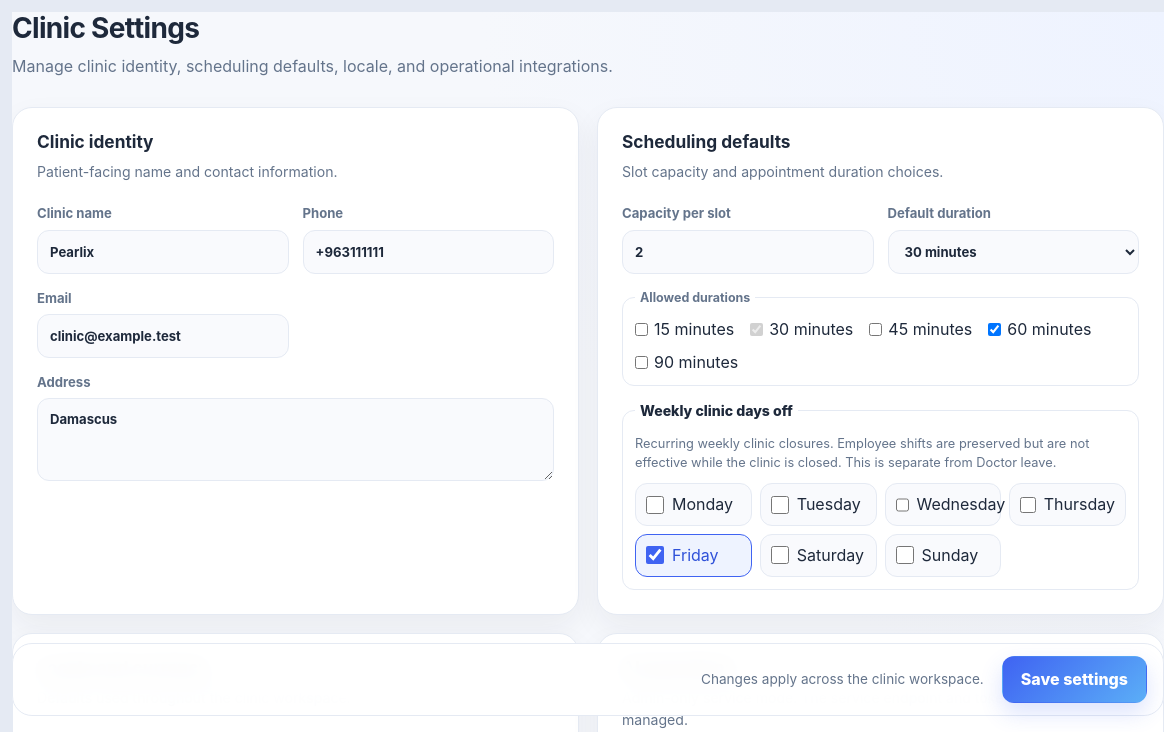
Test: Admin clinic operating week › blocks an all-seven selection locally with a visible validation error
Expected: the element "Weekly clinic days off" is shown, [622, 400, 1139, 590]
Click the checkbox labelled "Monday": (655, 505) [646, 496, 664, 514]
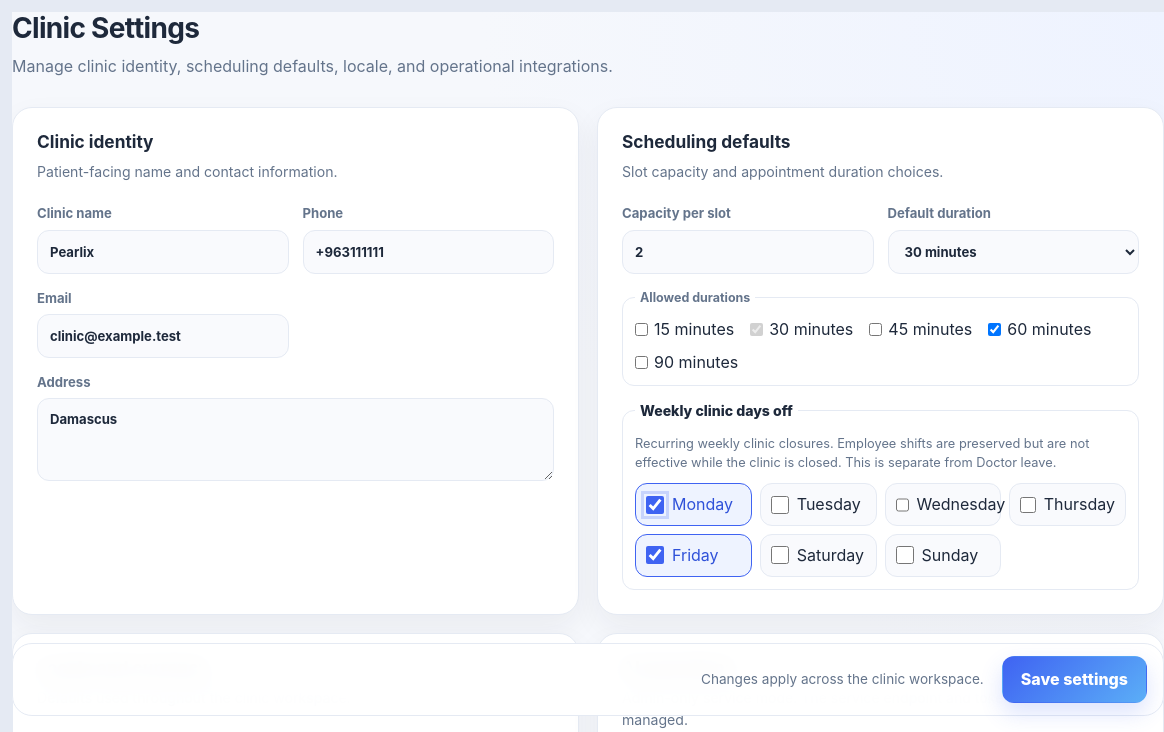
Click the checkbox labelled "Tuesday": (780, 505) [771, 496, 789, 514]
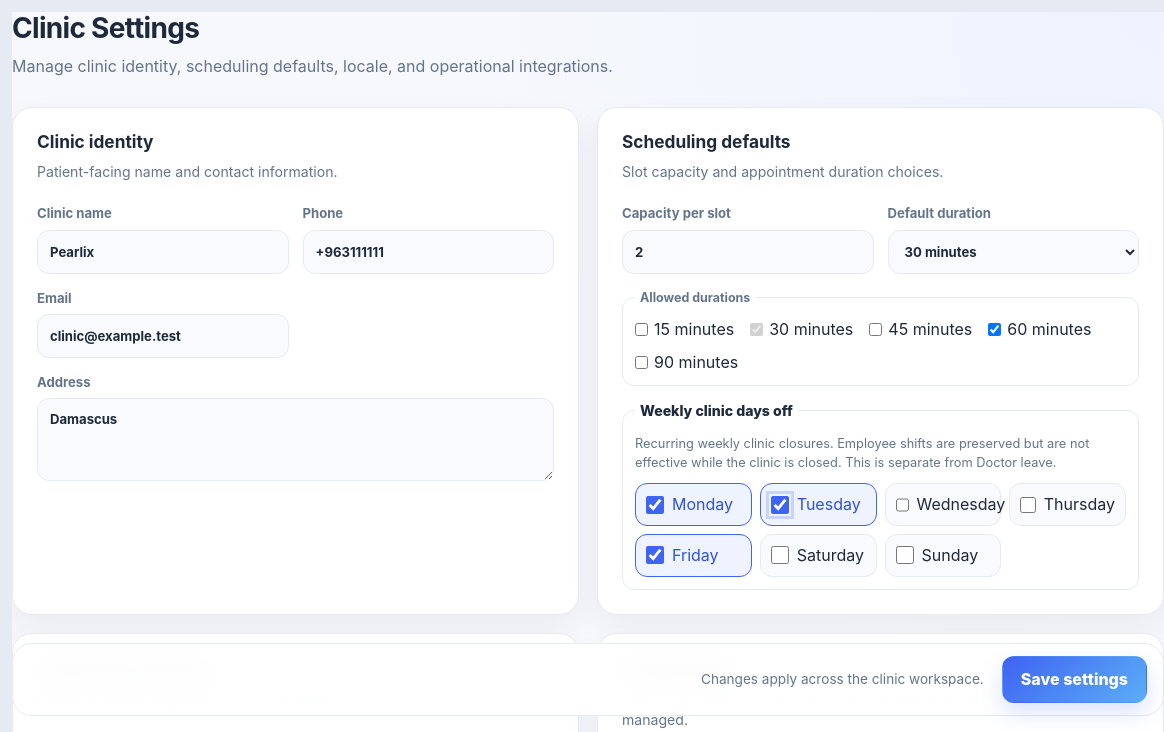
Click the checkbox labelled "Wednesday": (902, 505) [896, 496, 908, 514]
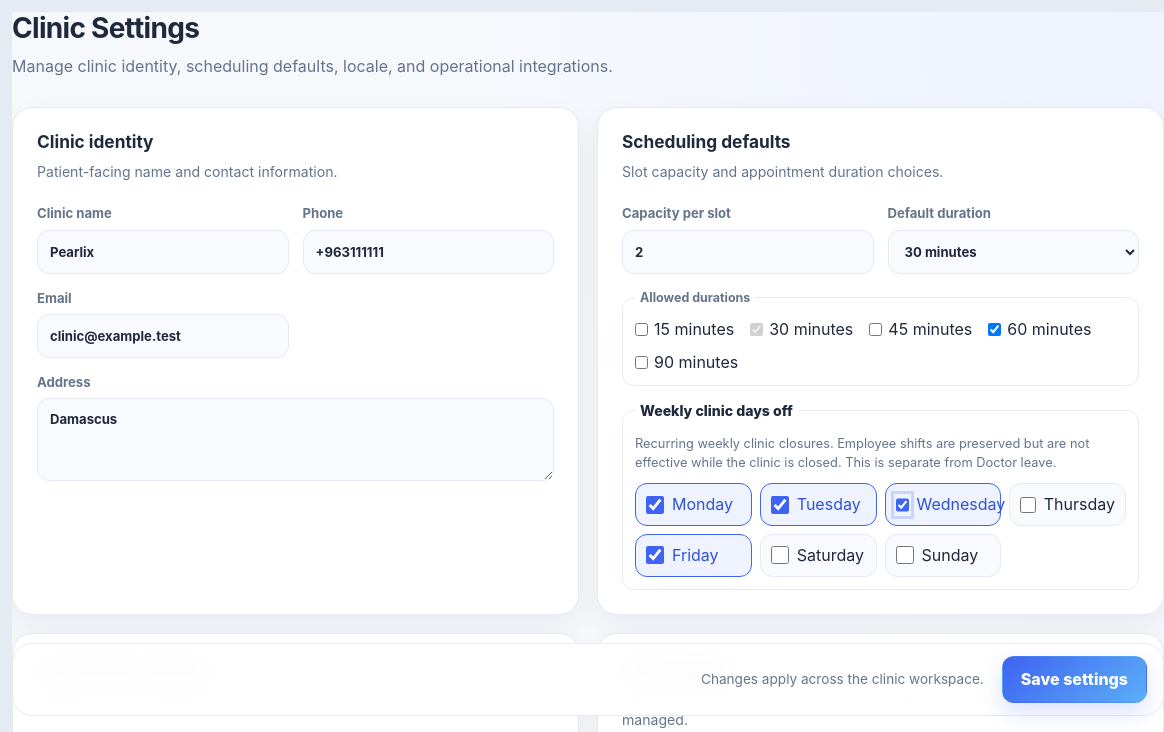
Click the checkbox labelled "Thursday": (1028, 505) [1020, 496, 1036, 514]
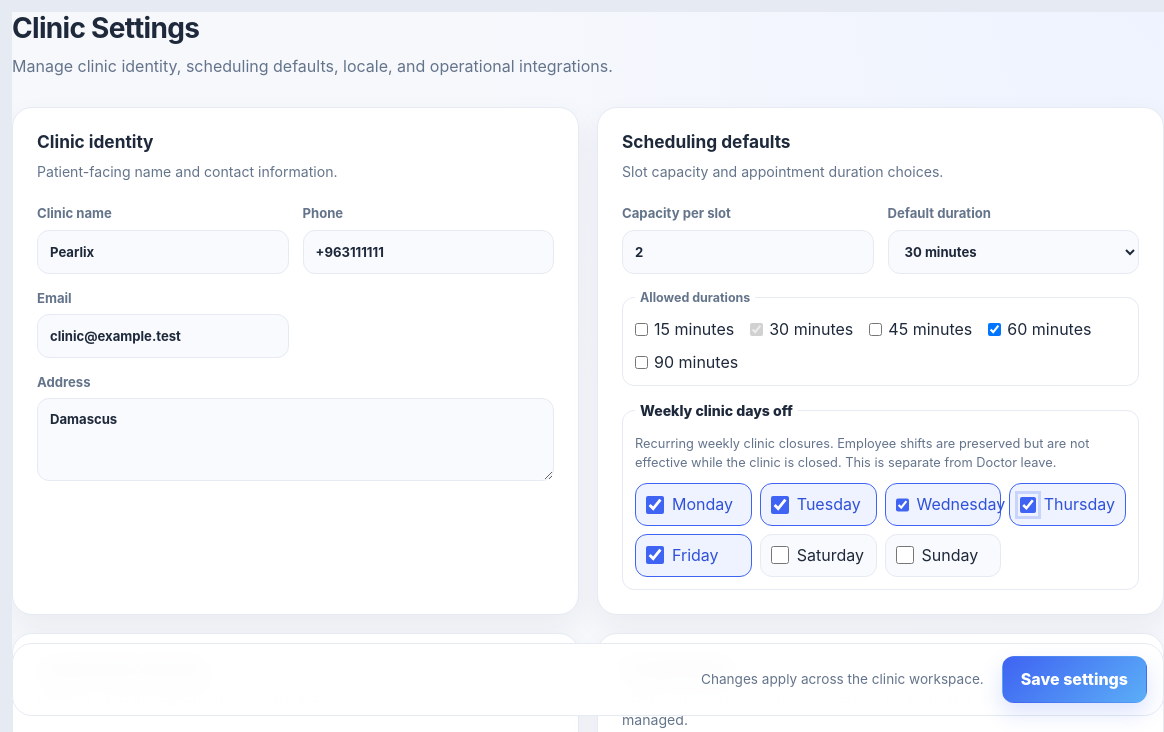
Click the checkbox labelled "Saturday": (780, 555) [771, 546, 789, 564]
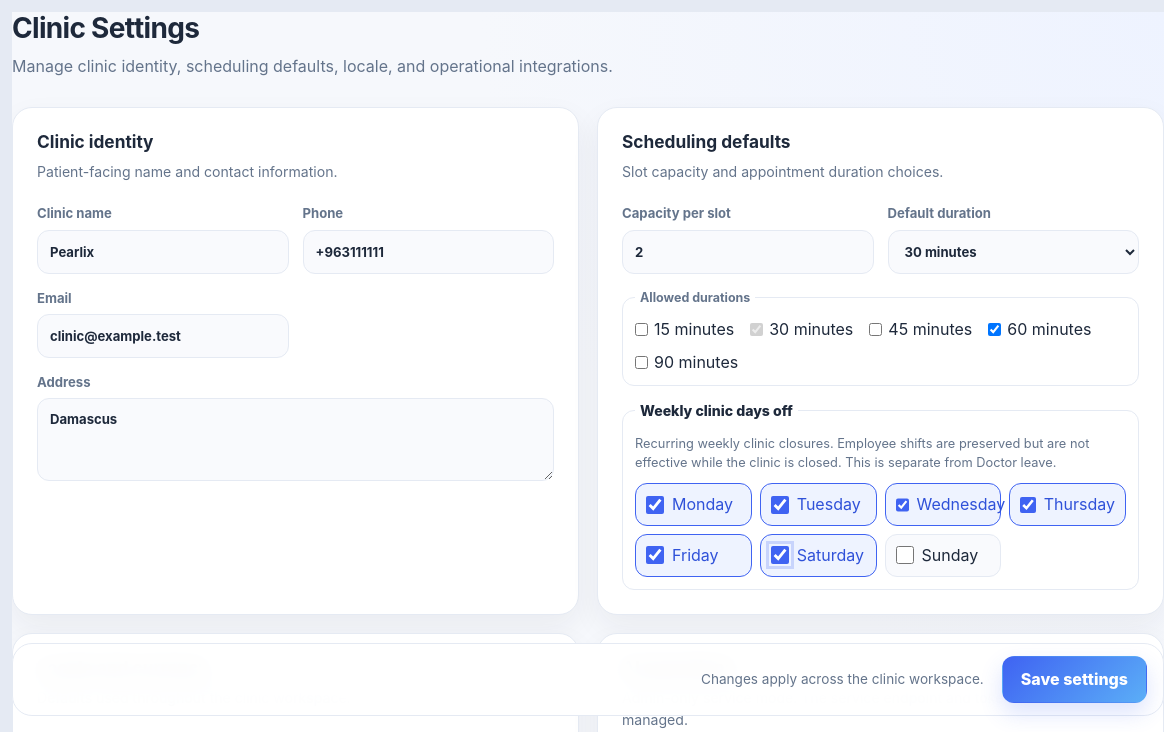
Click the checkbox labelled "Sunday": (904, 555) [896, 546, 914, 564]
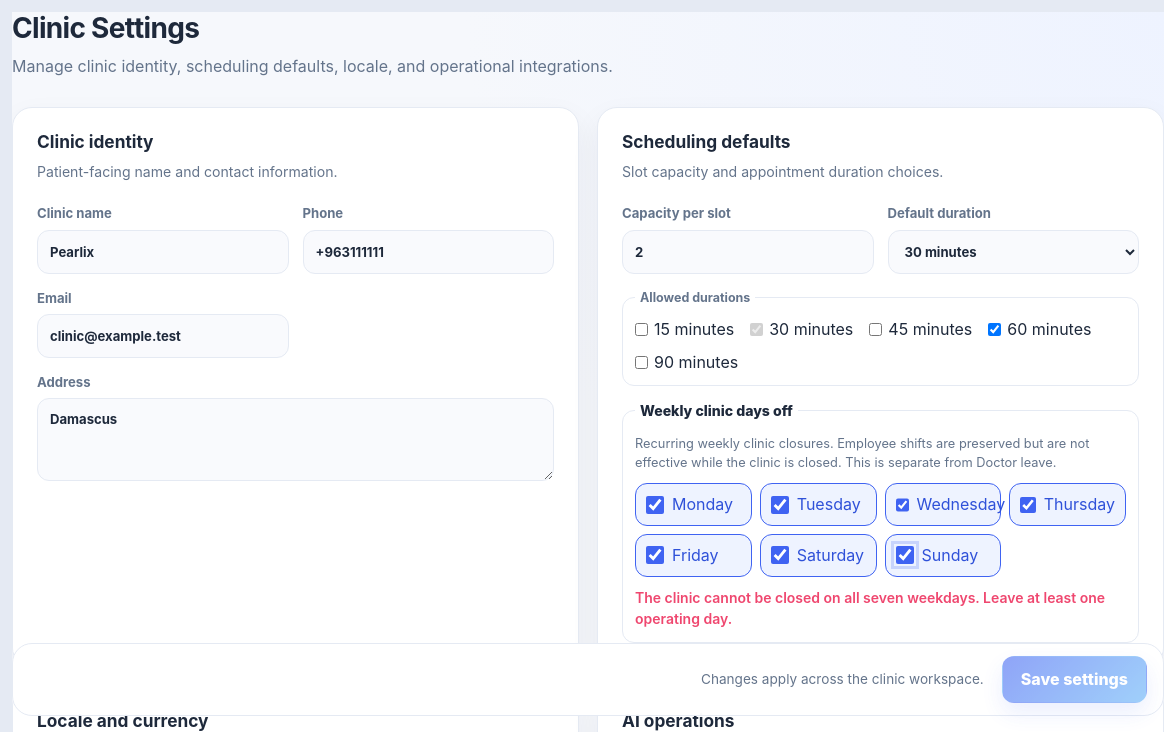
Expected: the message shows "cannot be closed on all seven weekdays", [635, 589, 1105, 628]
Expected: the button "Save settings" is disabled, [1002, 656, 1147, 703]
